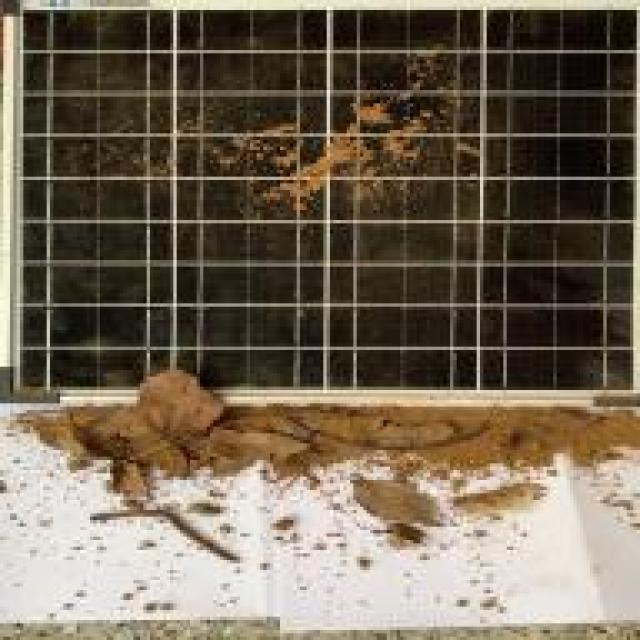dust-solar-panel: (0, 0, 640, 389)
